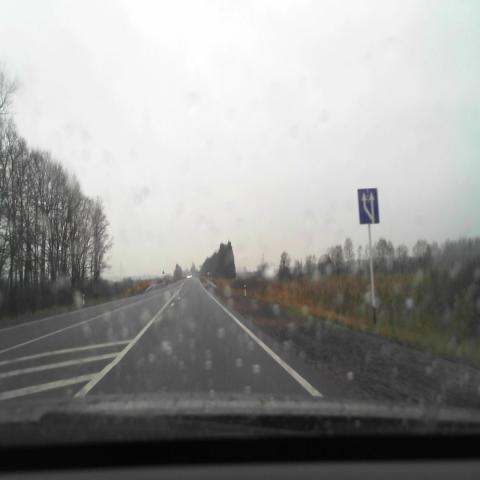5_15_3: (357, 187, 380, 224)
